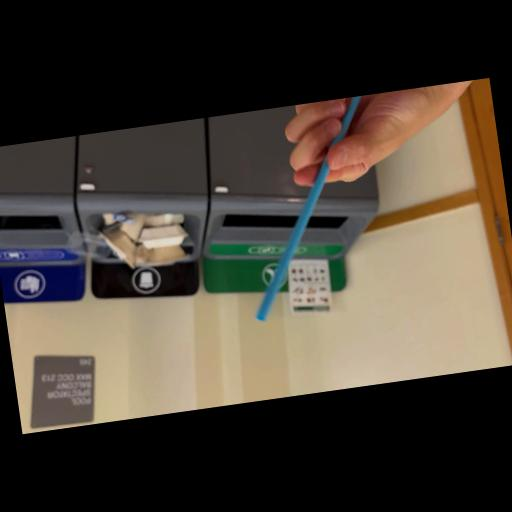straw: (232, 96, 396, 320)
